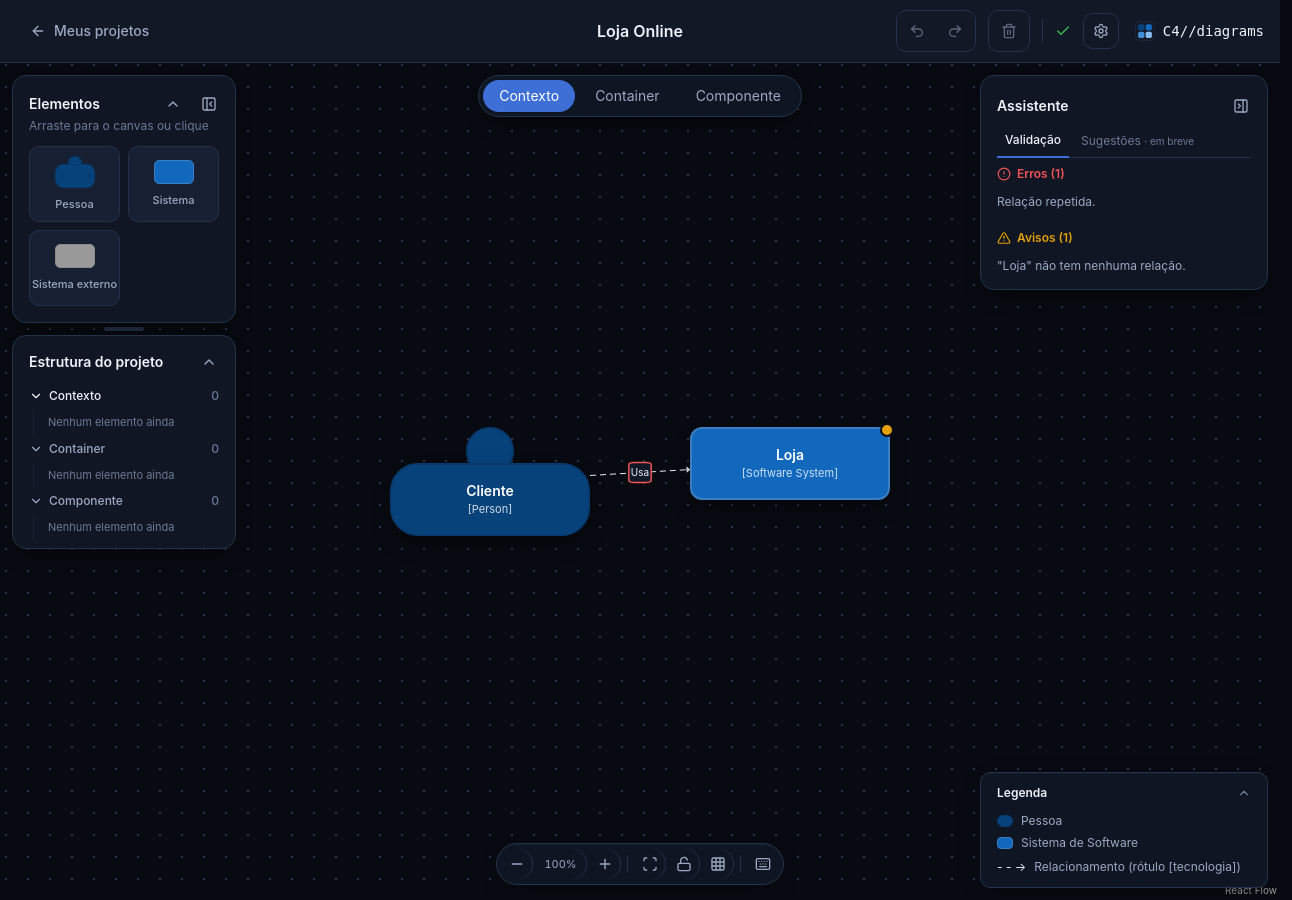
Test: ProjectPage (editor de diagramas) › salvamento (RNF08) › deve oferecer no menu de configurações Salvar, Exportar (em breve) e Atalhos
expect the heading "Loja Online" is shown: met, box [597,19,683,43]
Click the button named "Configurações". click: point(1101, 31)
box: [1083,13,1119,49]
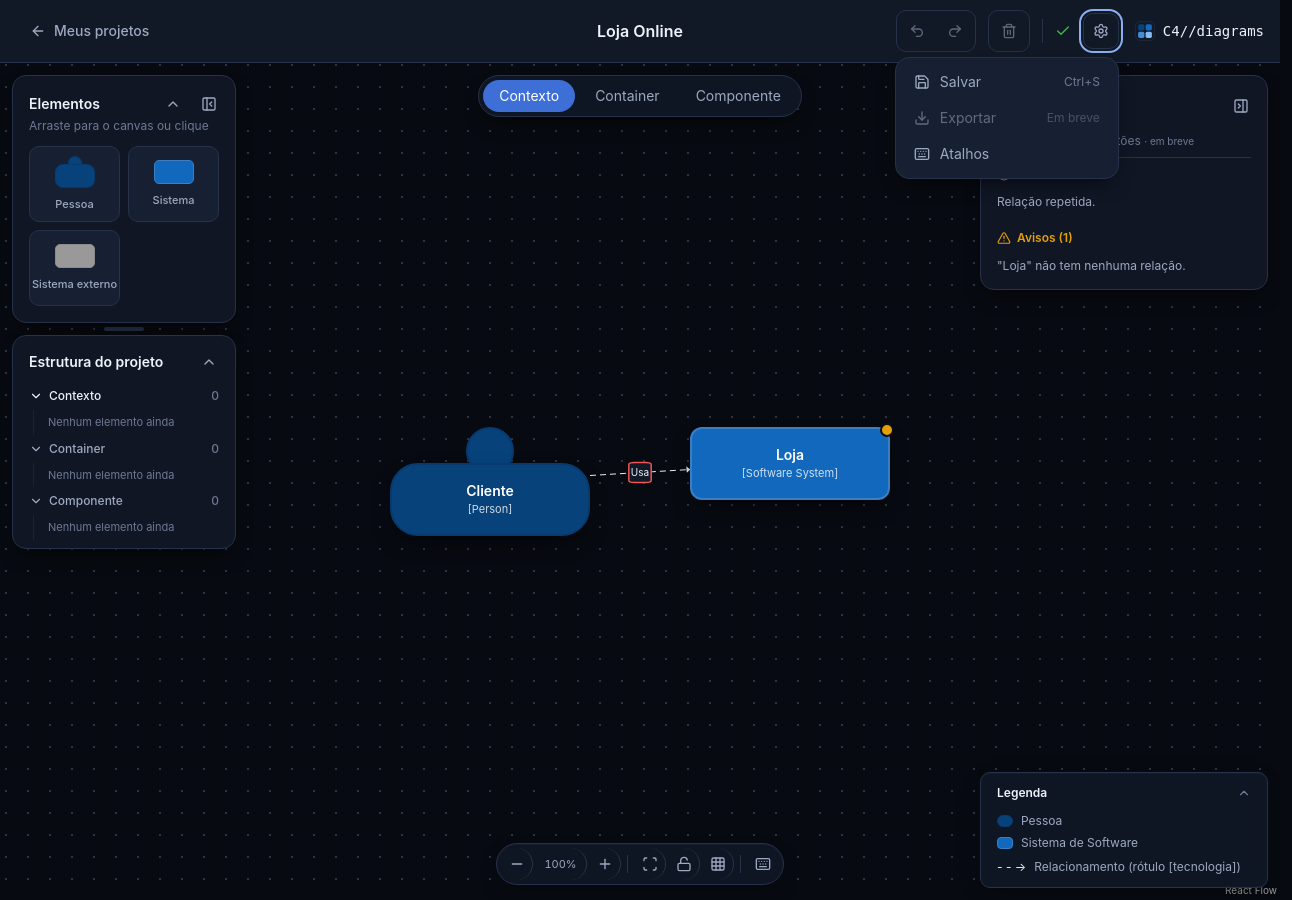
expect the menu items read "SalvarCtrl+S", "ExportarEm breve", "Atalhos", in this order: met, box [902,64,1112,100]; [902,100,1112,136]; [902,136,1112,172]
expect the menu item "Exportar Em breve" is disabled: met, box [902,100,1112,136]
